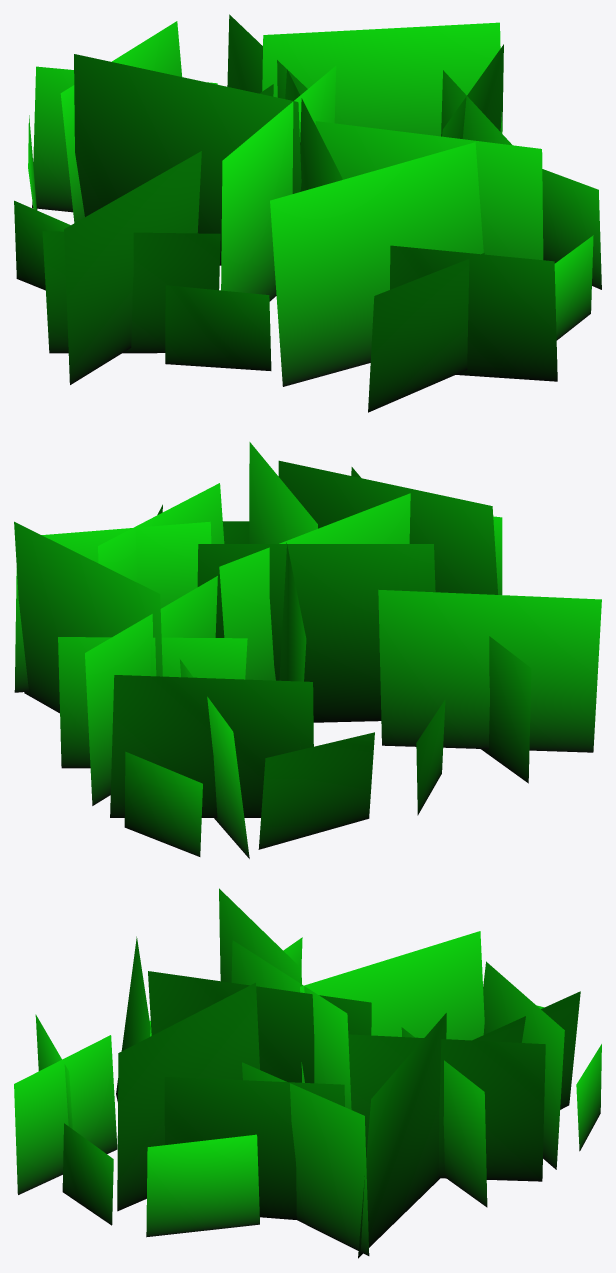
The model's file is Grass_Size07.fbx.
3 renders of one model, top to bottom at view 1: azimuth 30°, elevation 25°; view 2: azimuth 150°, elevation 25°; view 3: azimuth 270°, elevation 25°, orthographic. The views are drawn at different scales.
Visible parts, largest first — view 1: PP_grass_04; view 2: PP_grass_04; view 3: PP_grass_04.
Boxes of the visible parts, <box> form: PP_grass_04: <box>14,14,601,412</box>; PP_grass_04: <box>14,442,601,858</box>; PP_grass_04: <box>14,888,601,1258</box>.
Size of the model in its own units: 115 by 41.48 by 127.
